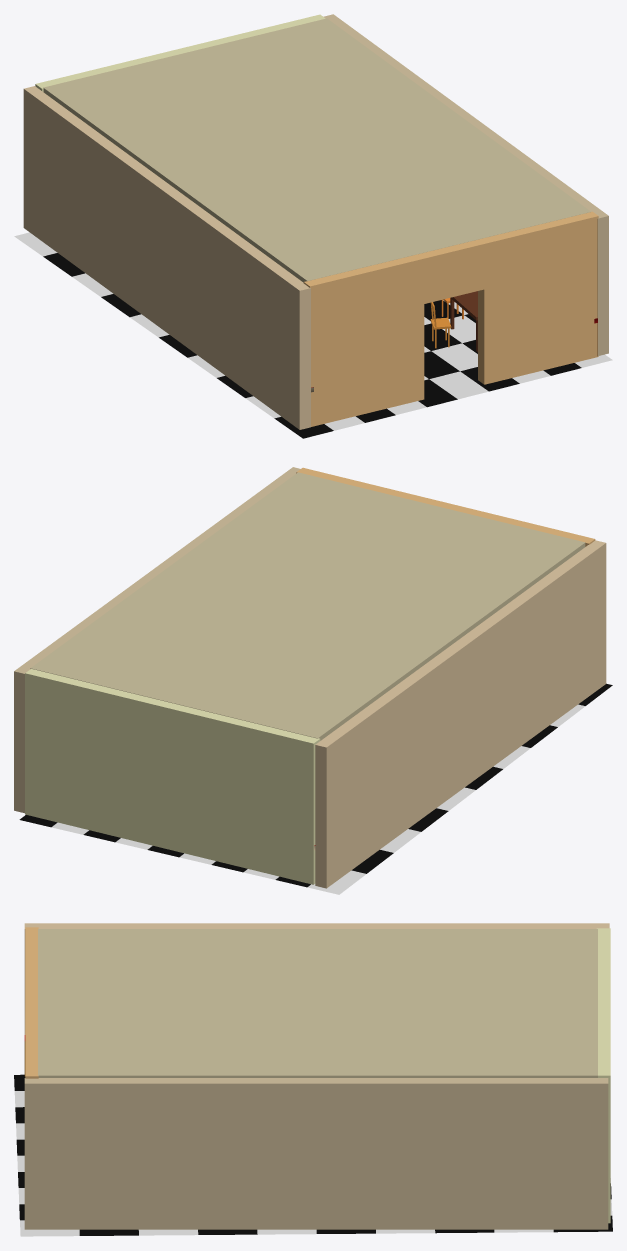
The model's file is Nivell_1_color.fbx.
The picture shows the model from 3 angles, top to bottom: view 1: azimuth 30°, elevation 25°; view 2: azimuth 150°, elevation 25°; view 3: azimuth 270°, elevation 25°; orthographic projection. The views are drawn at different scales.
Visible parts, largest first — view 1: techo, parred.002, Cube.005, Plane.001, parred.003, parred.004, messa.001; view 2: techo, parred.002, parred.004, Plane.001, parred.003, Cube.005; view 3: parred.003, techo, Plane.001, parred.002, parred.004, Cube.005.
Part boxes in pixels (left/top/right/bottom): techo: left=43, top=18, right=590, bottom=282; parred.002: left=23, top=86, right=313, bottom=429; Cube.005: left=303, top=211, right=598, bottom=426; Plane.001: left=14, top=232, right=612, bottom=438; parred.003: left=323, top=14, right=608, bottom=355; parred.004: left=35, top=14, right=325, bottom=91; messa.001: left=450, top=291, right=477, bottom=352; techo: left=30, top=472, right=585, bottom=740; parred.002: left=314, top=540, right=606, bottom=888; parred.004: left=25, top=669, right=320, bottom=884; Plane.001: left=19, top=683, right=612, bottom=894; parred.003: left=14, top=467, right=300, bottom=813; Cube.005: left=296, top=467, right=595, bottom=546; parred.003: left=24, top=1078, right=608, bottom=1229; techo: left=38, top=929, right=597, bottom=1077; Plane.001: left=14, top=1074, right=612, bottom=1236; parred.002: left=24, top=923, right=609, bottom=1076; parred.004: left=596, top=928, right=610, bottom=1223; Cube.005: left=25, top=927, right=38, bottom=1078.
Bounding box in the file's own units: 926 × 400 × 1407.
